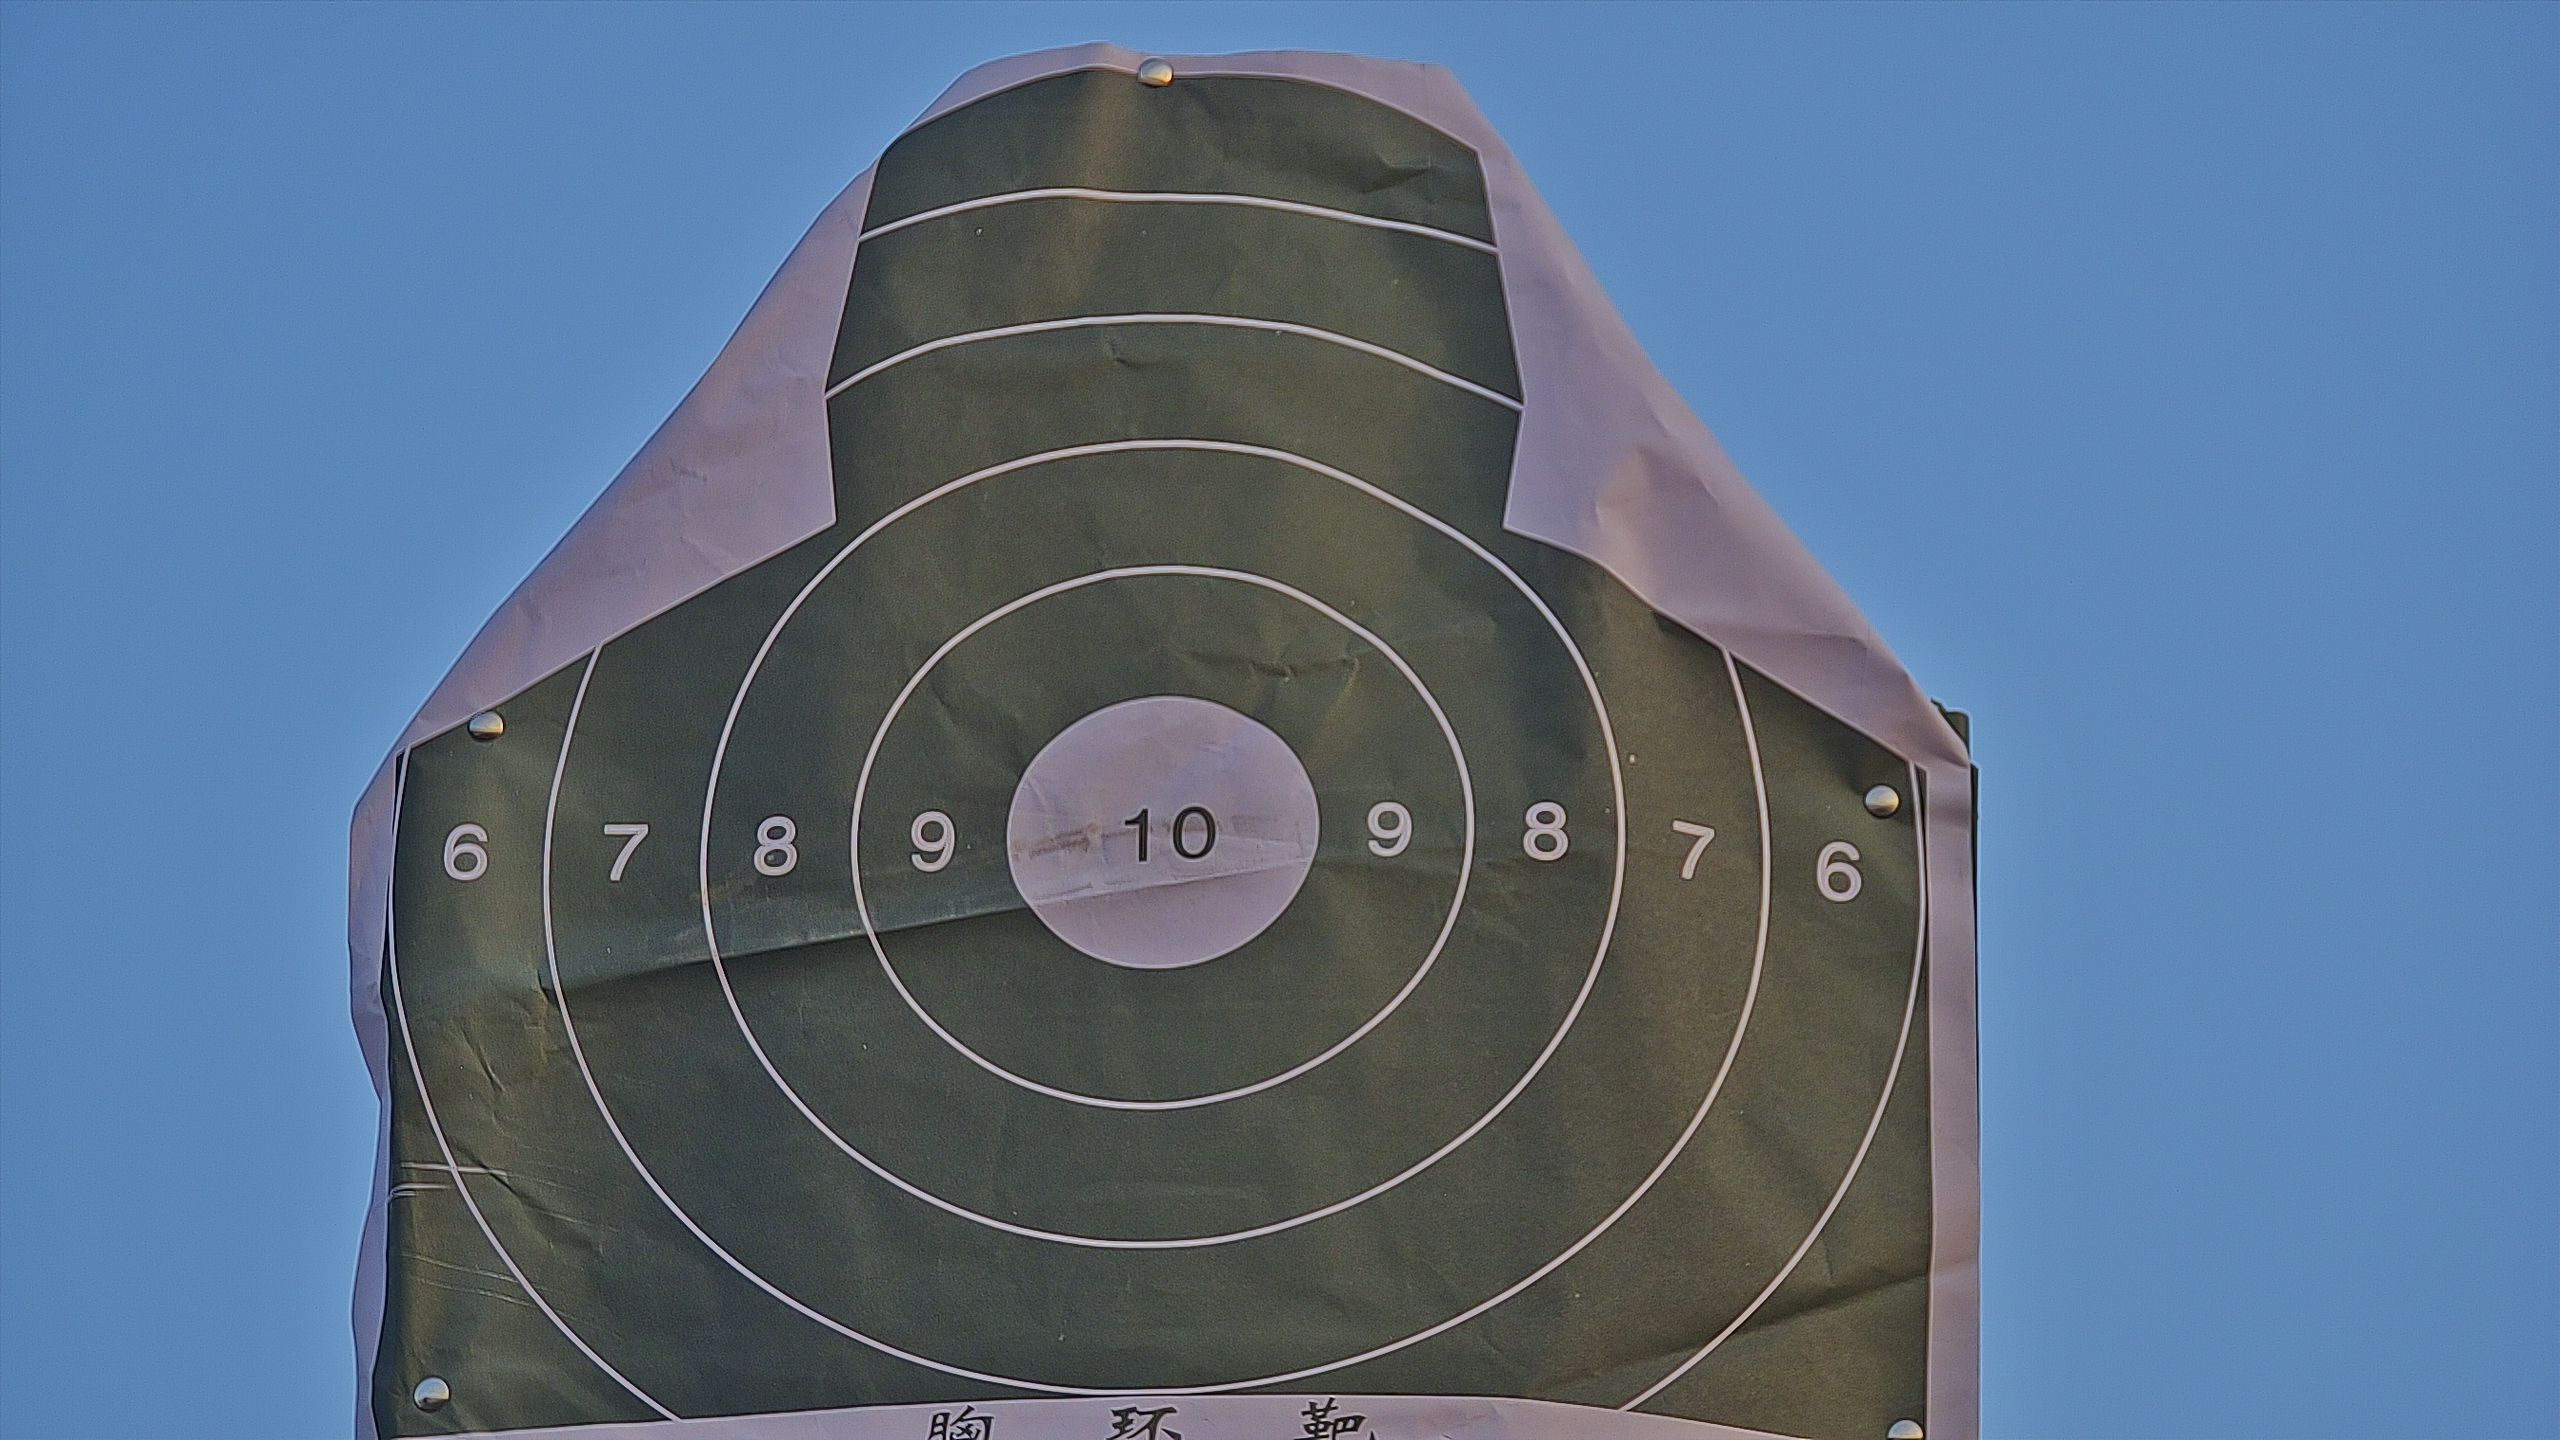target: (404, 76, 1932, 1440)
ten: (1000, 693, 1326, 971)
